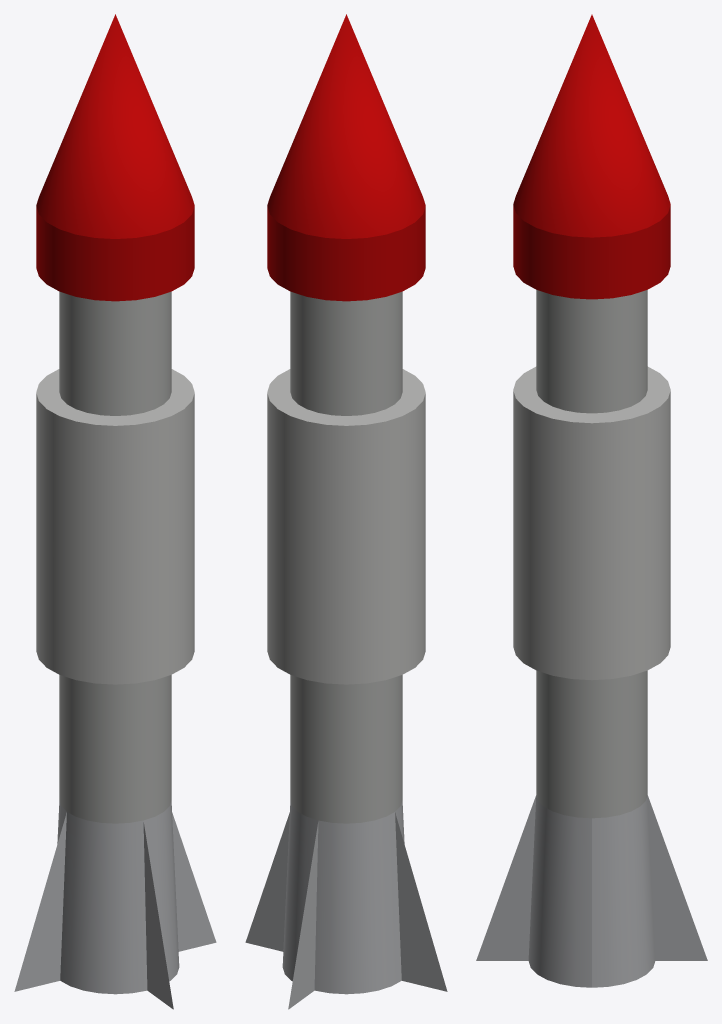
File: Missile.fbx
The picture shows the model from 3 angles, left to right: view 1: azimuth 30°, elevation 25°; view 2: azimuth 150°, elevation 25°; view 3: azimuth 270°, elevation 25°; orthographic projection.
Visible parts, largest first — view 1: 1674345303265247.001; view 2: 1674345303265247.001; view 3: 1674345303265247.001.
Boxes of the visible parts, x1,y1,x2,y2 form: 1674345303265247.001: (14, 14, 216, 1009); 1674345303265247.001: (245, 14, 447, 1009); 1674345303265247.001: (476, 14, 707, 987).
Size of the model in its own units: 44.16 by 199 by 44.16.
